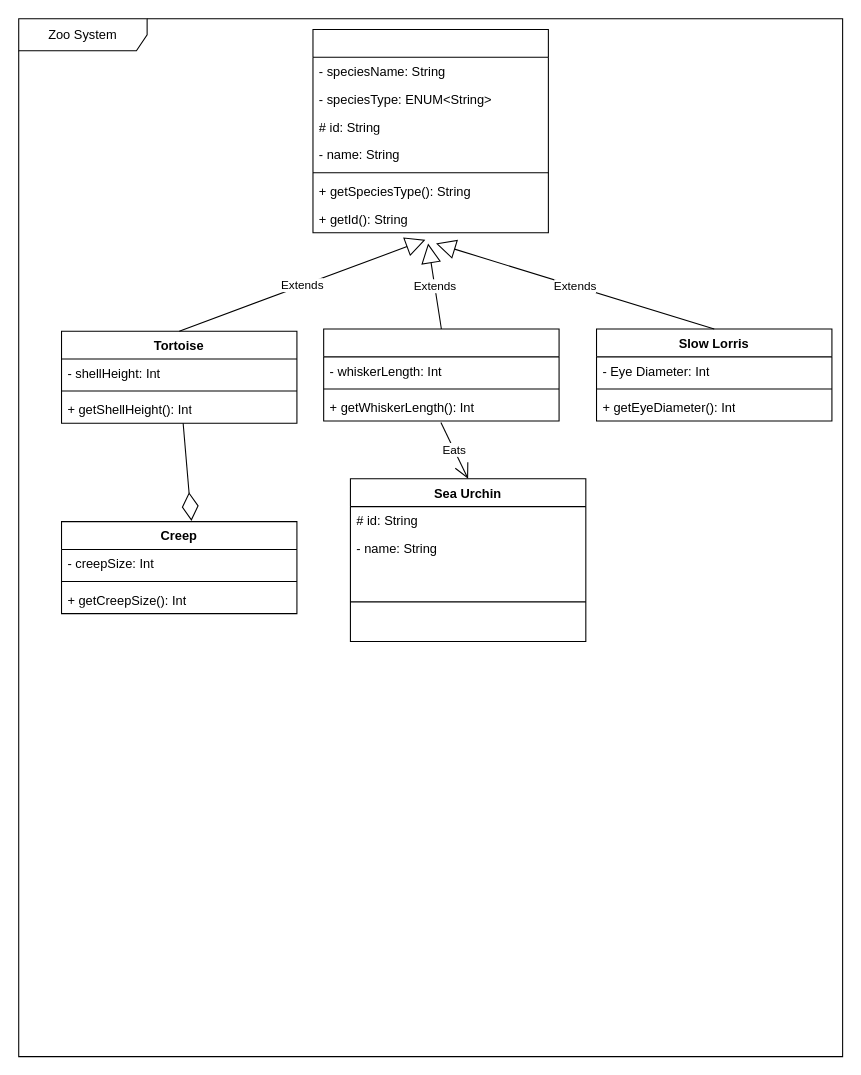
The diagram is 861 pixels wide and 1075 high, and some of its shapes have lost their labels. Each missing label, with the box of its shape:
Animal: (312, 28, 548, 233)
Otter: (323, 328, 559, 421)
